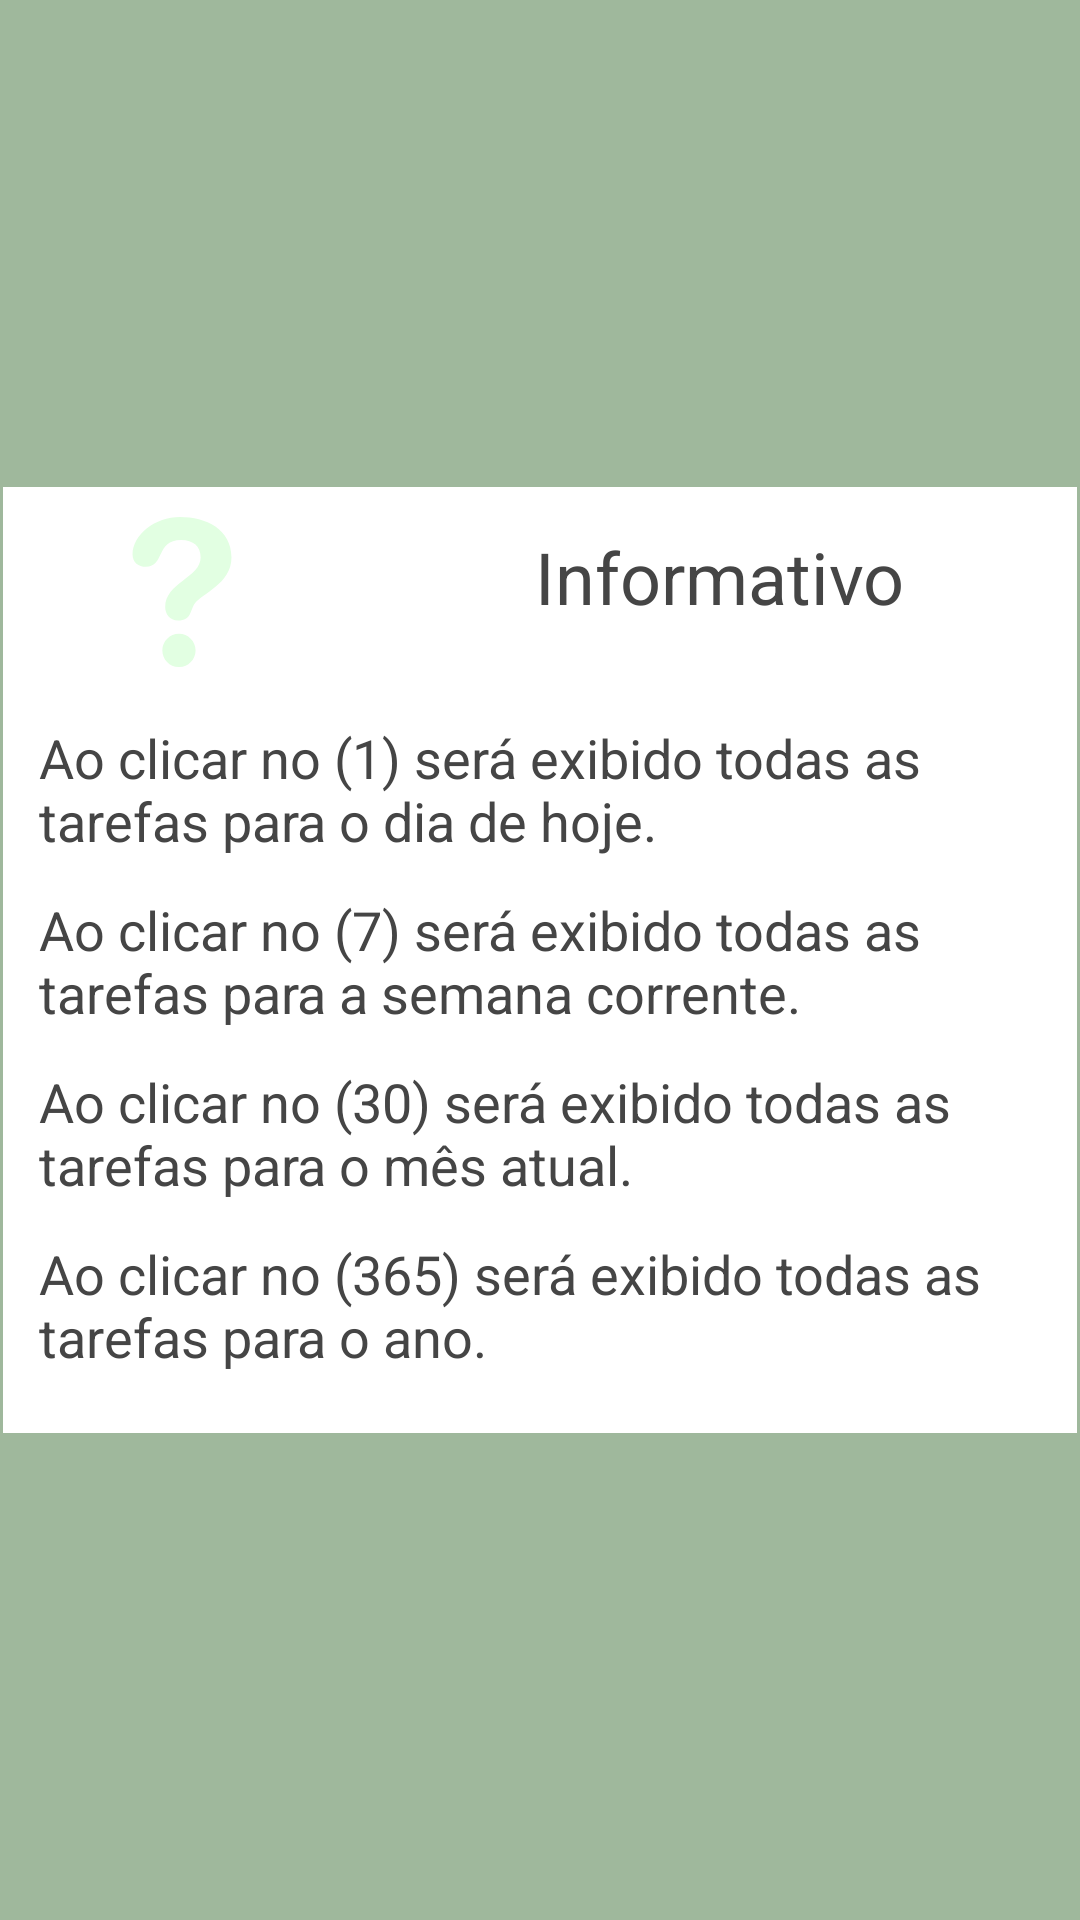

Icon click points for this 1080×1920 phone screenshot, format point (x, y):
interogacao: point (182, 592)
